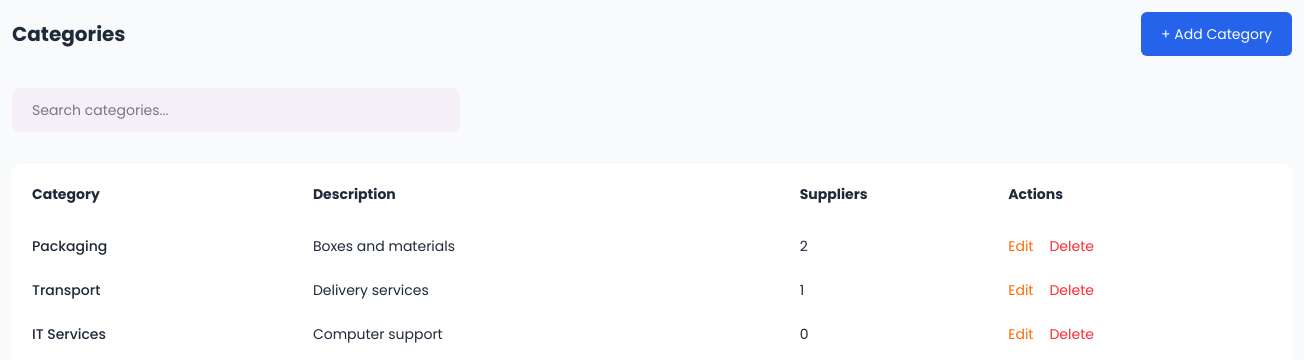
Test: Categories Page › searches categories by name
Type "Packaging" into the search field labelled "Search categories..." at [236, 110], box [12, 88, 460, 132]
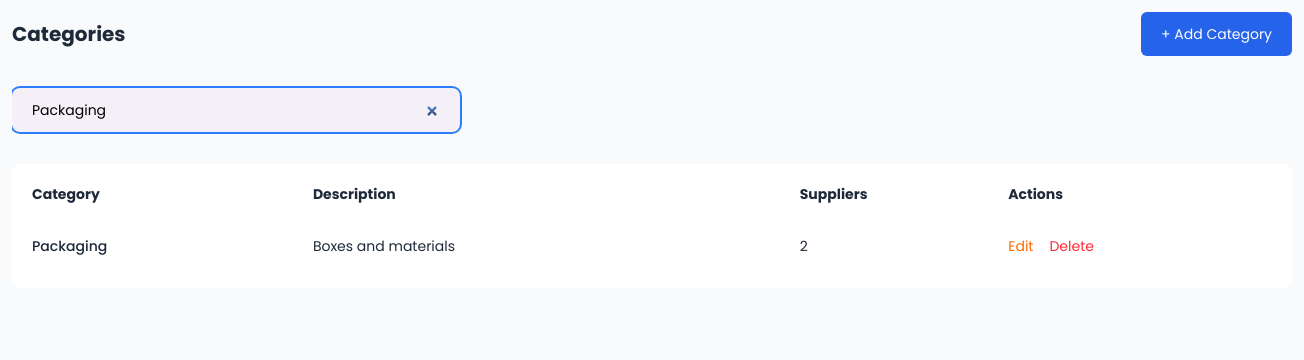
Check: the text "Packaging" is shown, box [32, 224, 313, 268]
Check: the text "Transport" is gone
